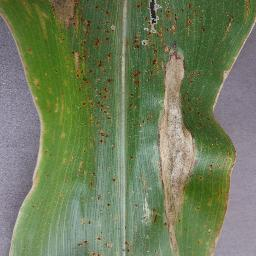Corn_Blight: (141, 37, 200, 256), (145, 0, 253, 37), (124, 8, 148, 97), (80, 99, 116, 158), (44, 0, 97, 39), (97, 4, 117, 104), (209, 65, 238, 121), (78, 229, 136, 254), (215, 160, 240, 214), (27, 117, 43, 189), (204, 222, 236, 255), (71, 45, 90, 94), (25, 66, 47, 96), (82, 166, 99, 204), (3, 14, 19, 52), (76, 212, 94, 236), (102, 200, 116, 215), (106, 173, 117, 191)
